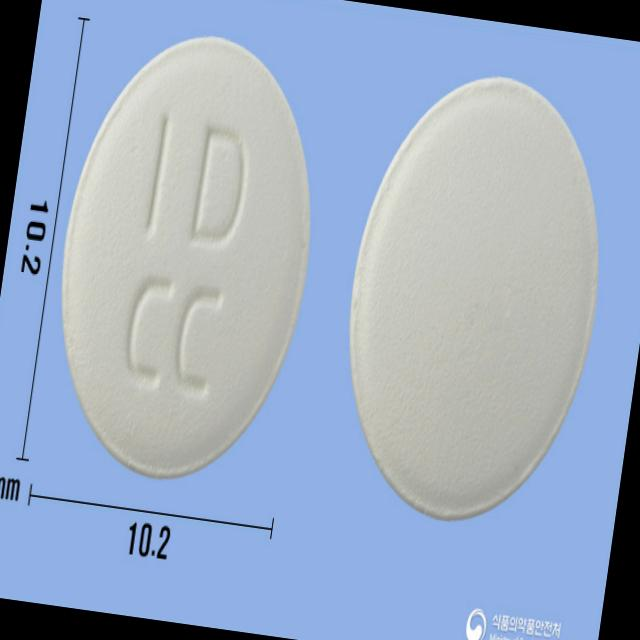Cycin - 500mg: (34, 16, 338, 494)
